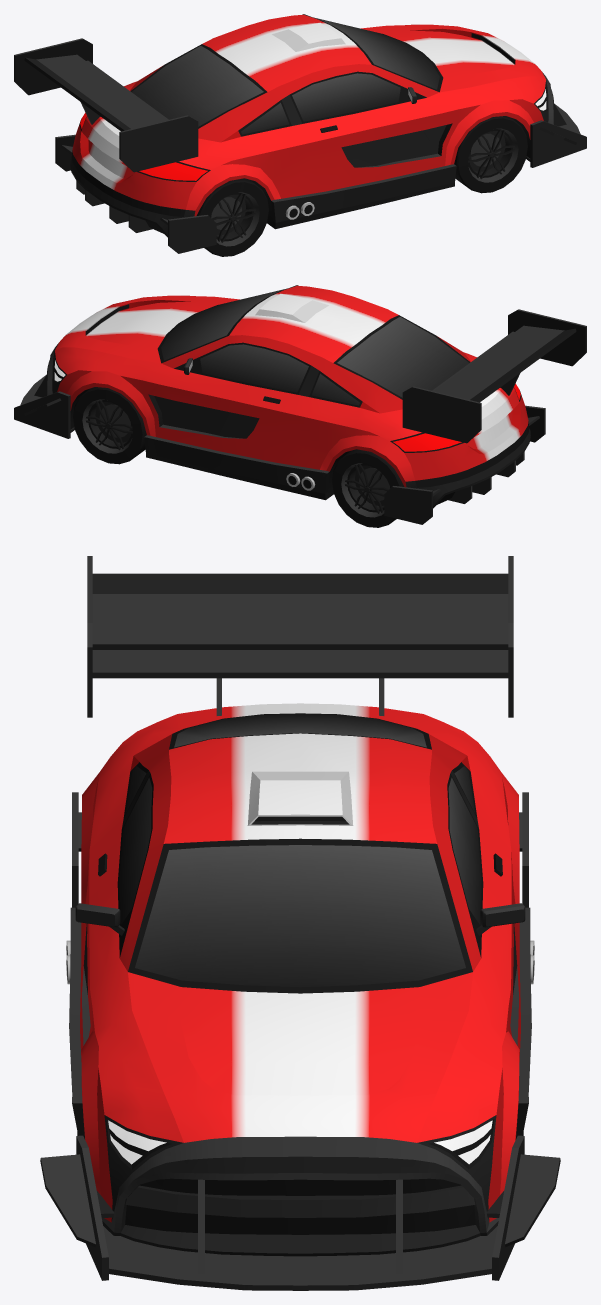
File: RaceCar_057.glb
3 views of the same model, one above another, from view 1: azimuth 30°, elevation 25°; view 2: azimuth 150°, elevation 25°; view 3: azimuth 270°, elevation 25° (orthographic). The views are drawn at different scales.
Visible parts, largest first — view 1: RaceCar_057, wheel_1_RaceCar_057_Wheel_1R, wheel_3_RaceCar_057_Wheel_2R; view 2: RaceCar_057, wheel_0_RaceCar_057_Wheel_1L, wheel_2_RaceCar_057_Wheel_2L; view 3: RaceCar_057.
Part boxes in pixels (left/top/right/bottom): RaceCar_057: left=14, top=14, right=586, bottom=253; wheel_1_RaceCar_057_Wheel_1R: left=454, top=116, right=527, bottom=193; wheel_3_RaceCar_057_Wheel_2R: left=196, top=178, right=268, bottom=256; RaceCar_057: left=14, top=285, right=586, bottom=524; wheel_0_RaceCar_057_Wheel_1L: left=73, top=387, right=146, bottom=464; wheel_2_RaceCar_057_Wheel_2L: left=332, top=449, right=404, bottom=527; RaceCar_057: left=40, top=556, right=560, bottom=1290.
Size of the model in its own units: 4.65 by 1.38 by 2.15.
Materials: 2 (2 with a texture image).
